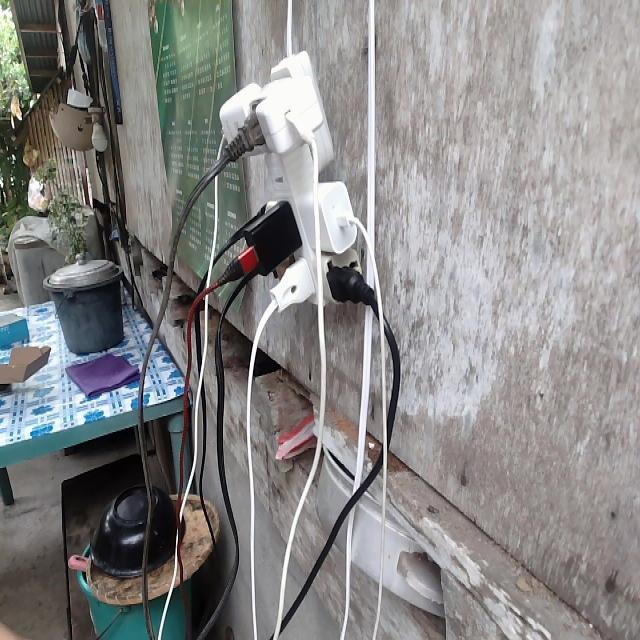-: (218, 47, 363, 312)
